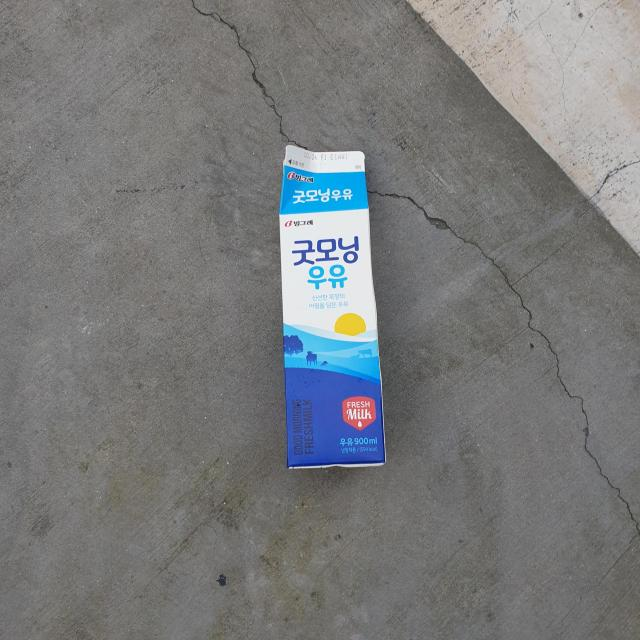paperpack: (280, 145, 386, 469)
